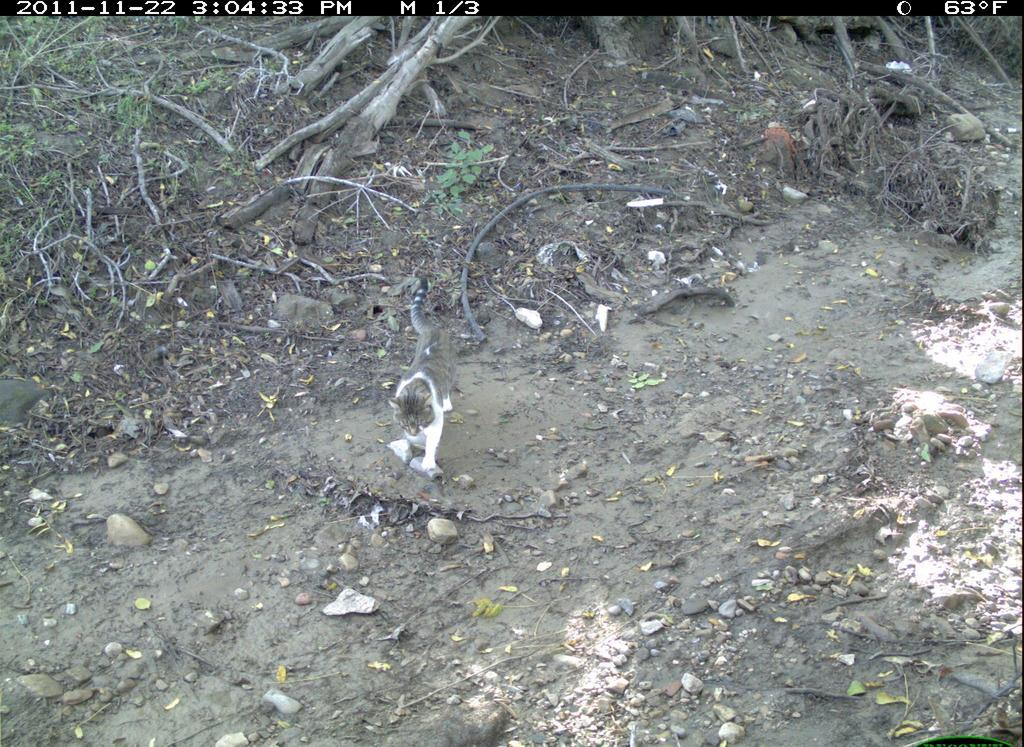cat: (381, 272, 466, 475)
